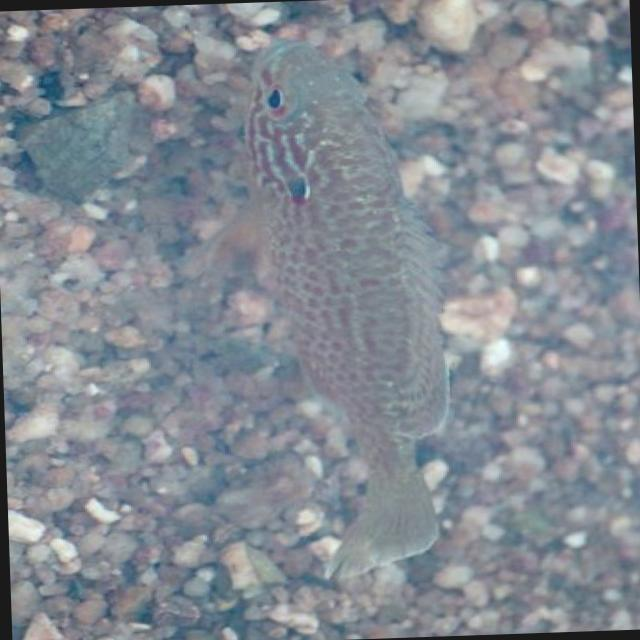Gunes Levregi: (230, 31, 465, 602)
